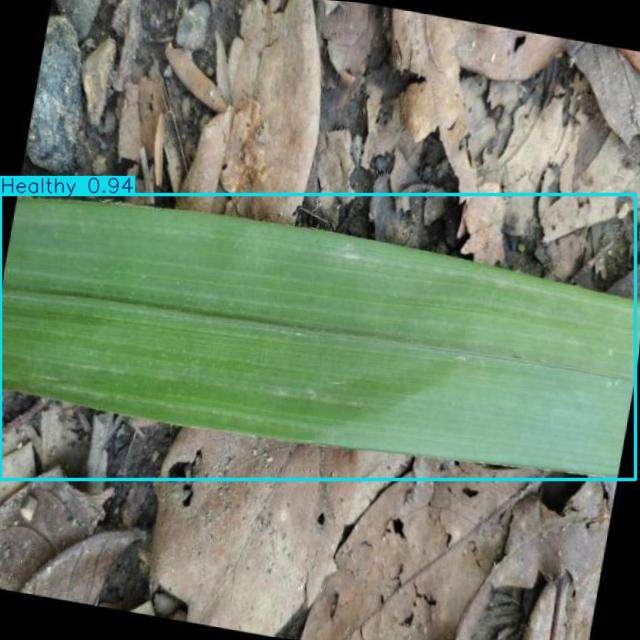Healthy: (0, 194, 635, 480)
